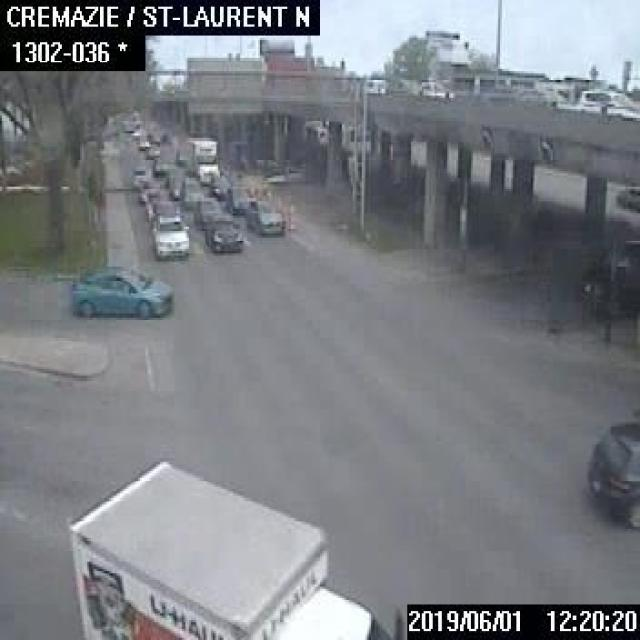construction: (285, 206, 293, 226)
vehicle: (64, 453, 402, 638), (584, 420, 638, 531), (69, 264, 173, 318), (578, 264, 638, 309), (580, 84, 638, 119), (182, 134, 220, 184), (202, 216, 244, 252), (152, 212, 188, 253), (242, 196, 282, 232), (223, 181, 257, 213), (194, 195, 225, 227), (148, 199, 182, 226), (210, 170, 235, 197), (182, 180, 206, 208), (416, 81, 455, 96), (137, 176, 159, 202), (615, 187, 638, 209), (144, 190, 163, 215), (129, 166, 146, 187), (169, 174, 185, 196), (364, 77, 384, 91), (152, 157, 166, 173), (144, 142, 158, 158), (175, 146, 184, 162), (137, 137, 149, 148)
